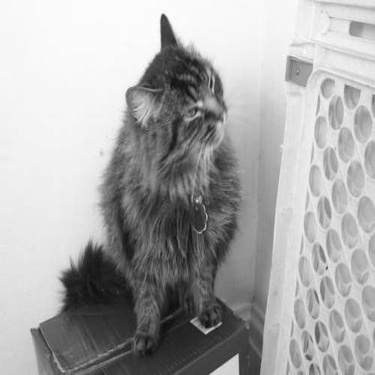cat: (53, 14, 240, 354)
